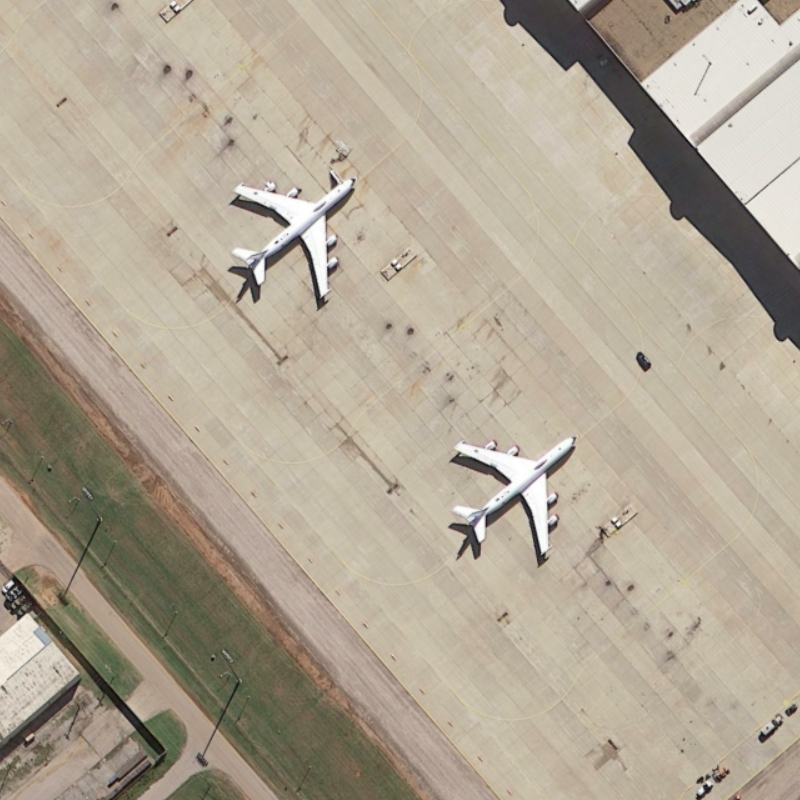A11: (226, 160, 359, 311), (443, 428, 584, 566)
